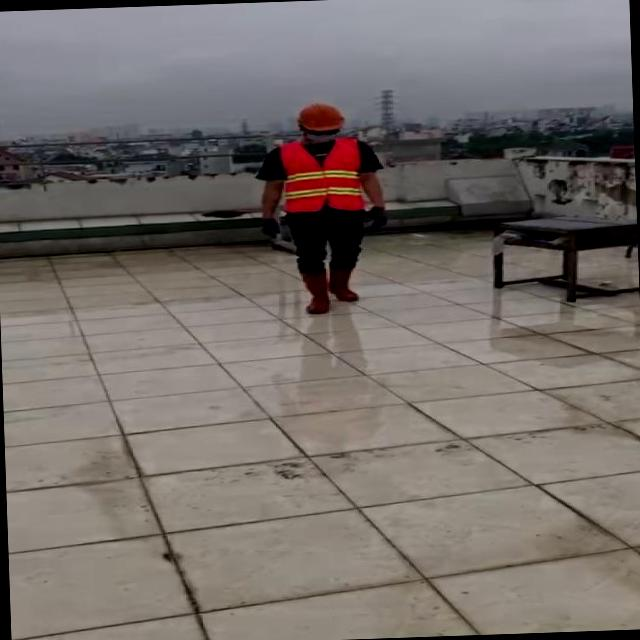boots: (298, 268, 330, 314), (325, 264, 358, 302)
gloves: (243, 202, 292, 248), (357, 204, 416, 236)
helmet: (294, 100, 344, 128)
vest: (278, 136, 366, 214)
